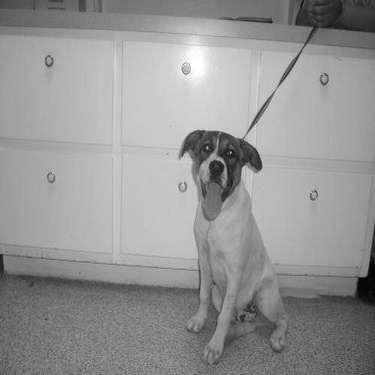dog: (157, 117, 293, 369)
